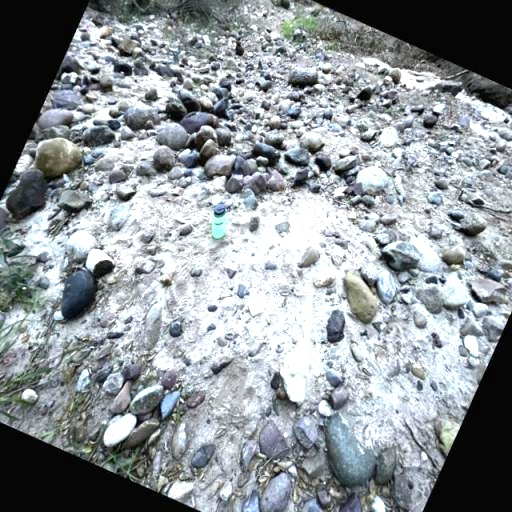bottle: (204, 202, 234, 240), (170, 47, 184, 64)
